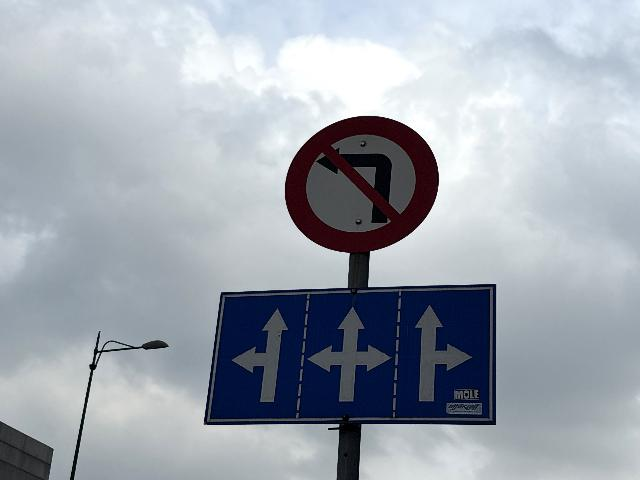cam-re-trai: (283, 113, 440, 253)
